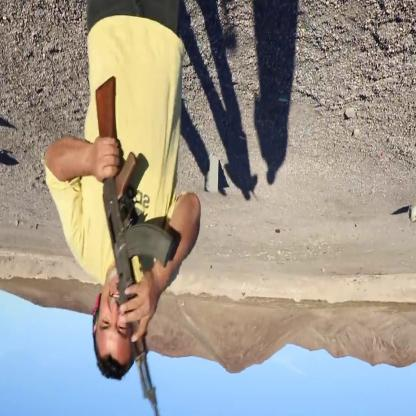long weapon: (77, 66, 179, 415)
